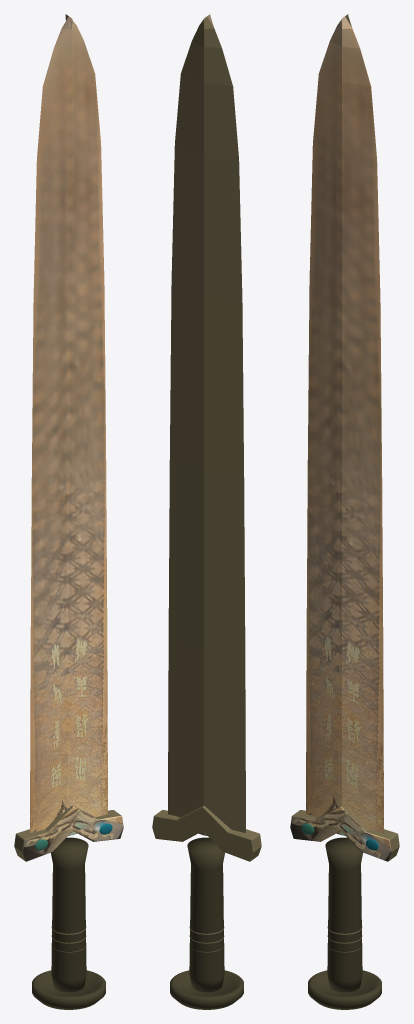
3 renders of one model, left to right at view 1: azimuth 30°, elevation 25°; view 2: azimuth 150°, elevation 25°; view 3: azimuth 330°, elevation 25°, orthographic.
Parts seen in each view (by area): view 1: WEB_A02; view 2: WEB_A02; view 3: WEB_A02.
Part boxes in pixels (<box>): WEB_A02: <box>14,14,123,1009</box>; WEB_A02: <box>152,14,261,1009</box>; WEB_A02: <box>290,14,399,1009</box>.
Size of the model in its own units: 0.06 by 0.5534 by 0.038.
5 materials, 1 textured.
